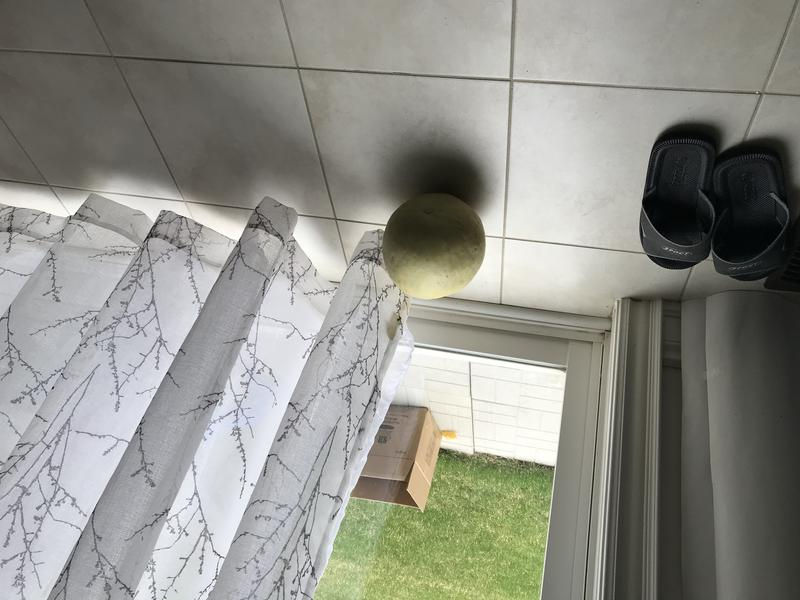honeydew: (378, 186, 487, 313)
